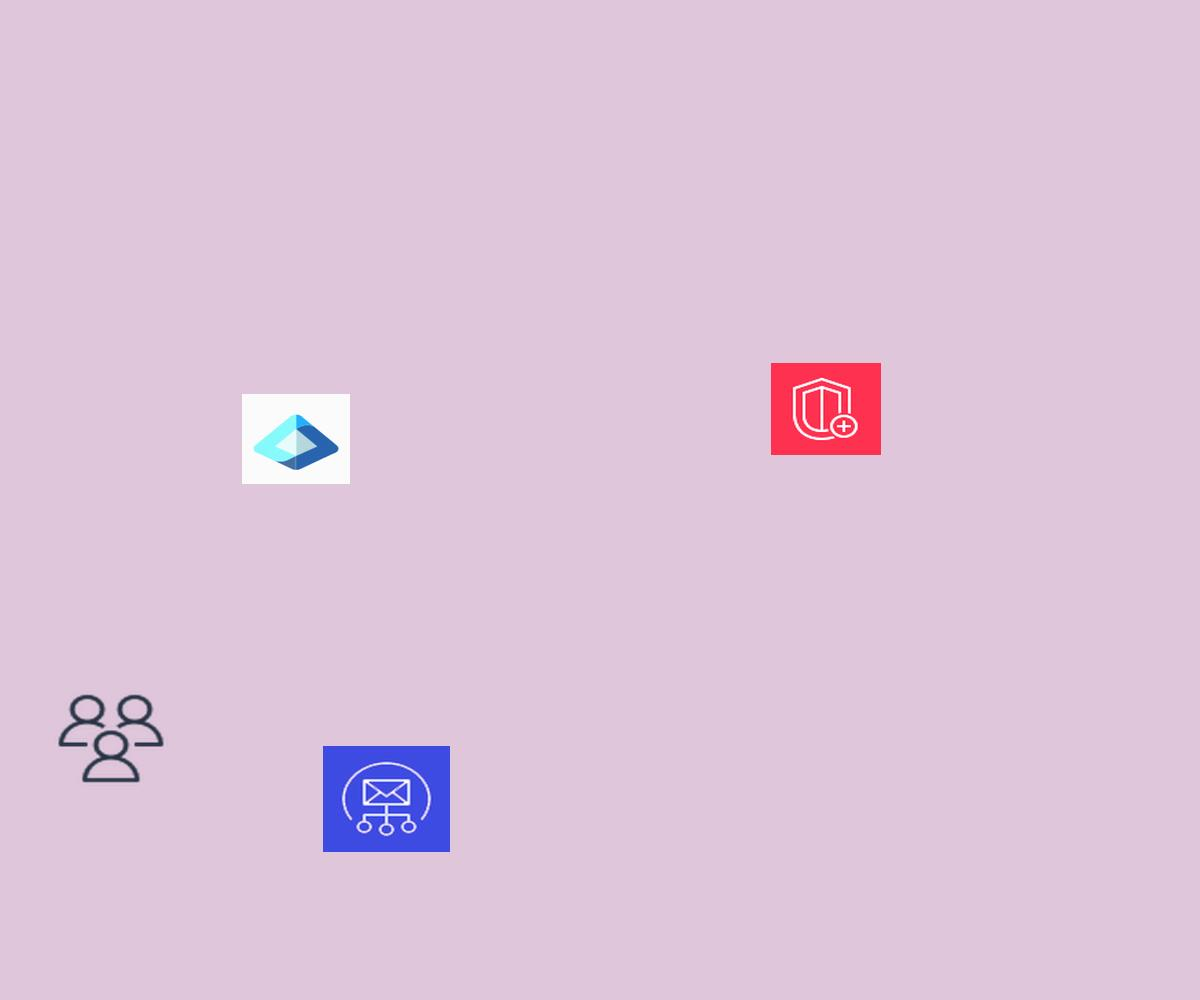AWS-Res_Users: (54, 691, 168, 786)
AWS-Shield: (771, 363, 881, 455)
AWS-Simple-Email-Service: (323, 746, 450, 852)
Azure_microsoft_entra: (242, 394, 350, 484)
